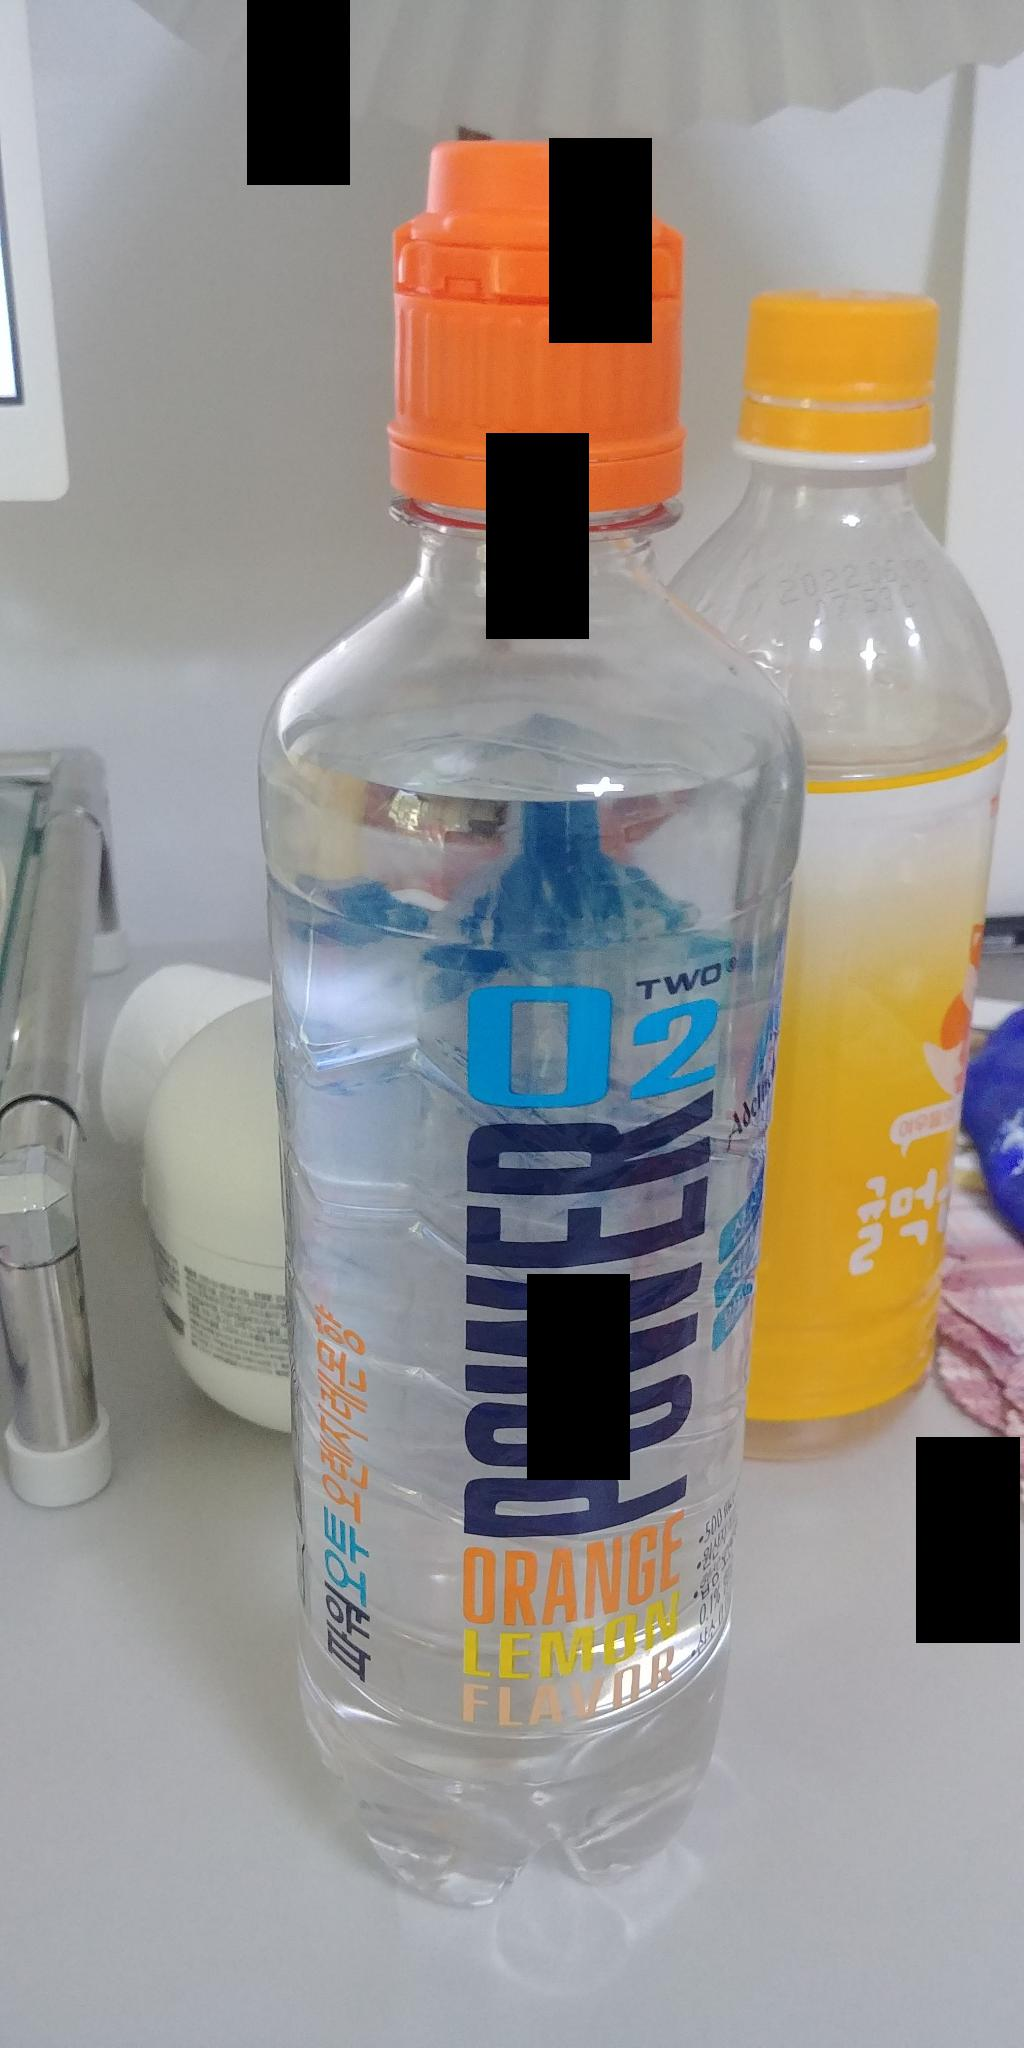powerO2_orange: (243, 118, 768, 1927)
